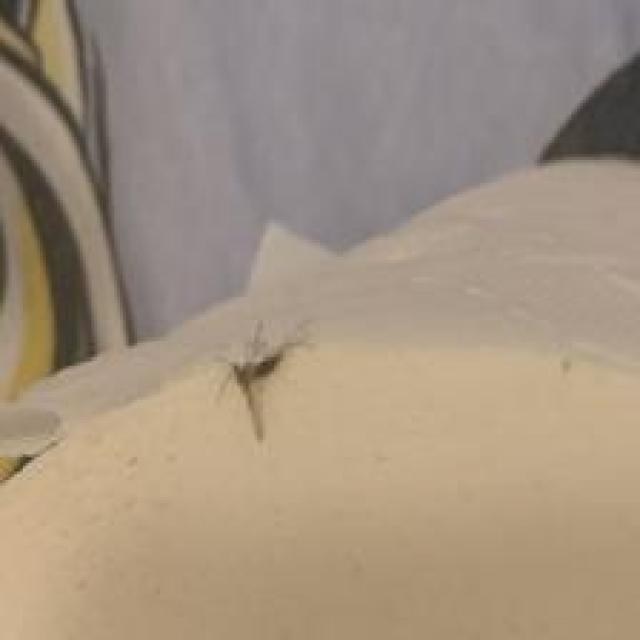Culex: (210, 317, 313, 443)
